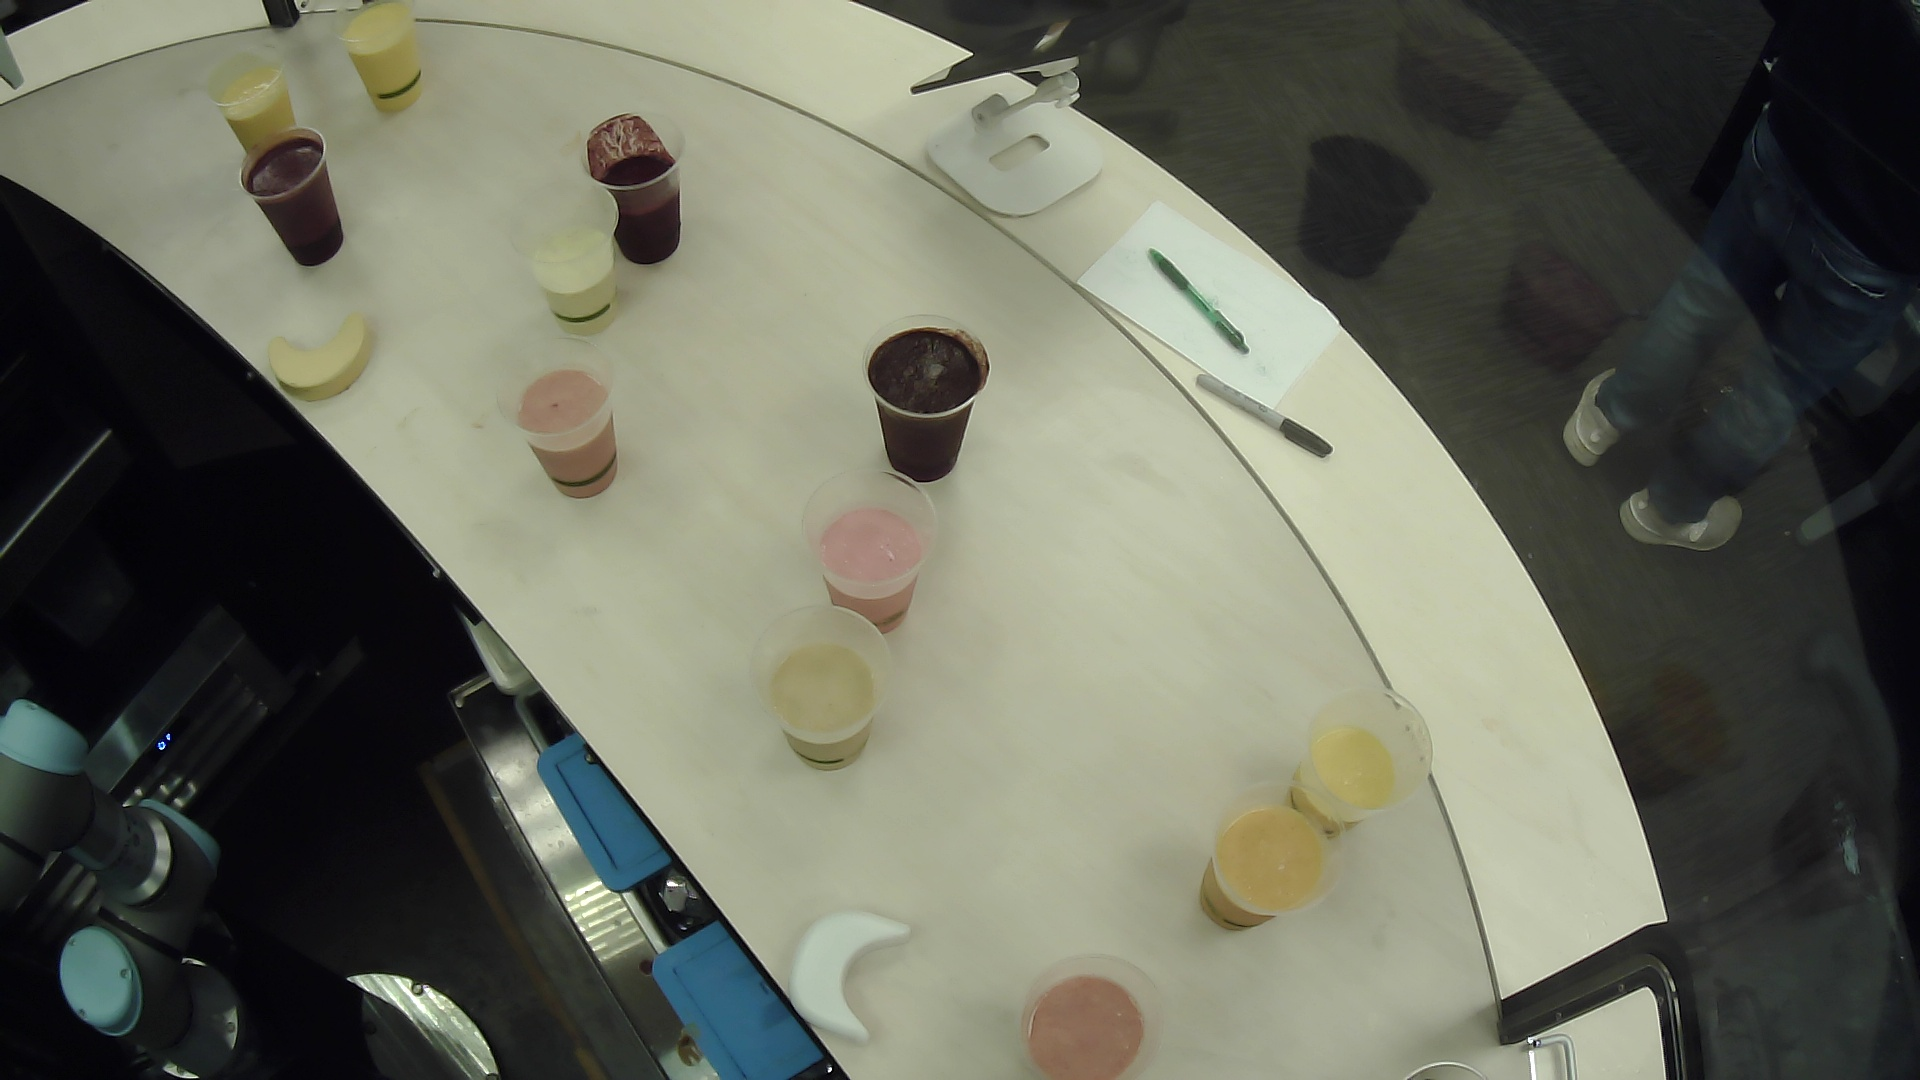Deliver: (760, 894, 938, 1062), (248, 290, 382, 422)
Full_cup: (741, 589, 906, 783), (802, 446, 953, 655), (857, 306, 1007, 487), (1193, 778, 1348, 947), (493, 166, 642, 340), (1007, 930, 1178, 1080), (488, 347, 640, 513), (1287, 675, 1445, 833), (570, 104, 702, 277), (227, 125, 356, 274), (327, 1, 450, 132), (204, 41, 309, 193)
